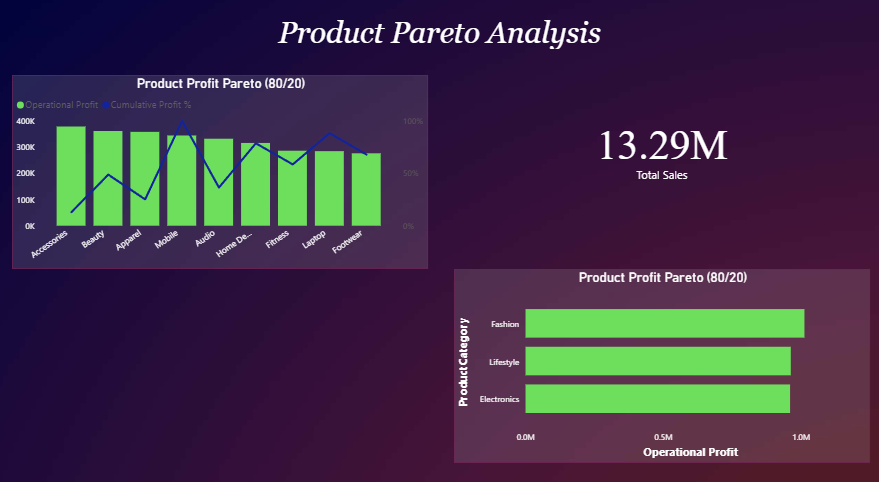

Layout of this report page (visuals, bound fields, positions):
{"tool":"powerbi","page":{"name":"Product Pareto Analysis","canvas":[1280,720],"ordinal":3},"visuals":[{"type":"lineStackedColumnComboChart","title":"Product Profit Pareto (80/20)","fields":{"Category":["Sample Data.ProductSubcategory"],"Y":["Sample Data.Operational Profit"],"Y2":["Sample Data.Cumulative Profit %"]},"box":[28.8,119.5,599,279.4],"z":0},{"type":"textbox","box":[87.8,28.8,1113.1,76.3],"z":1000},{"type":"barChart","title":"Product Profit Pareto (80/20)","fields":{"Y":["Sample Data.Operational Profit"],"Category":["Sample Data.ProductCategory"]},"box":[665.3,398.9,599,279.4],"z":2000},{"type":"card","fields":{"Values":["Sample Data.Total Sales"]},"box":[665.3,119.5,599,211.7],"z":3000}]}

Visuals, with their boxes in screenshot pixels (x1, y1, x2, y2), scaled from the page's 1280x720 canvas onto the 882x483 screenshot:
"Product Profit Pareto (80/20)" lineStackedColumnComboChart: box(20, 80, 433, 268)
textbox: box(60, 19, 827, 71)
"Product Profit Pareto (80/20)" barChart: box(458, 268, 871, 455)
card - Sample Data.Total Sales: box(458, 80, 871, 222)
